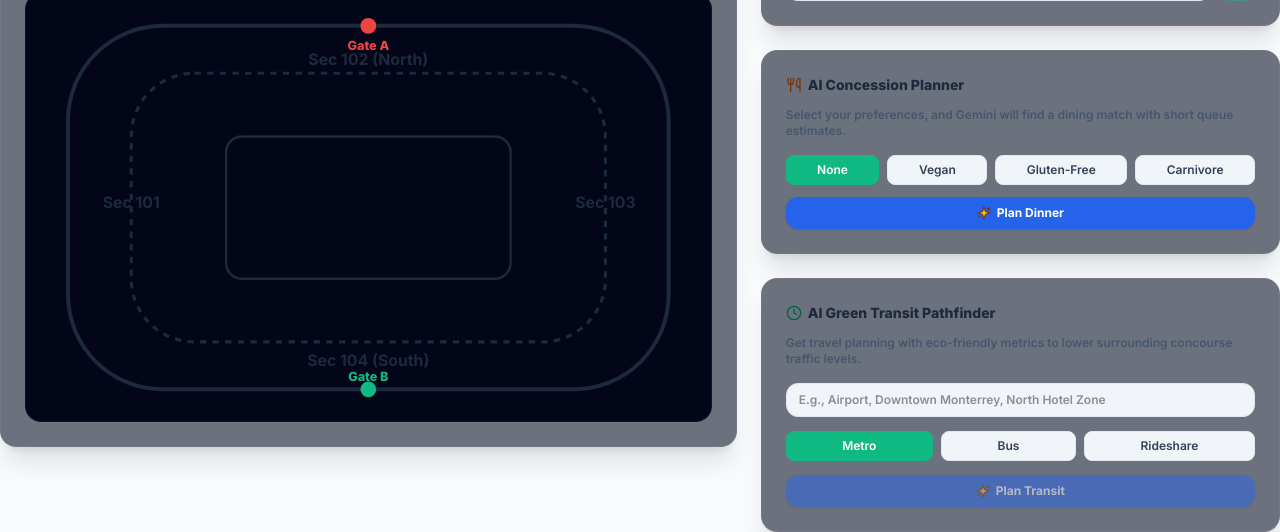
Dashboard Integration Tests › Error retry boundaries › handles transit planner error and retry
(page scrolled)
Type "Downtown" into the field named "Enter transit destination" at (1020, 400), box [786, 383, 1255, 417]
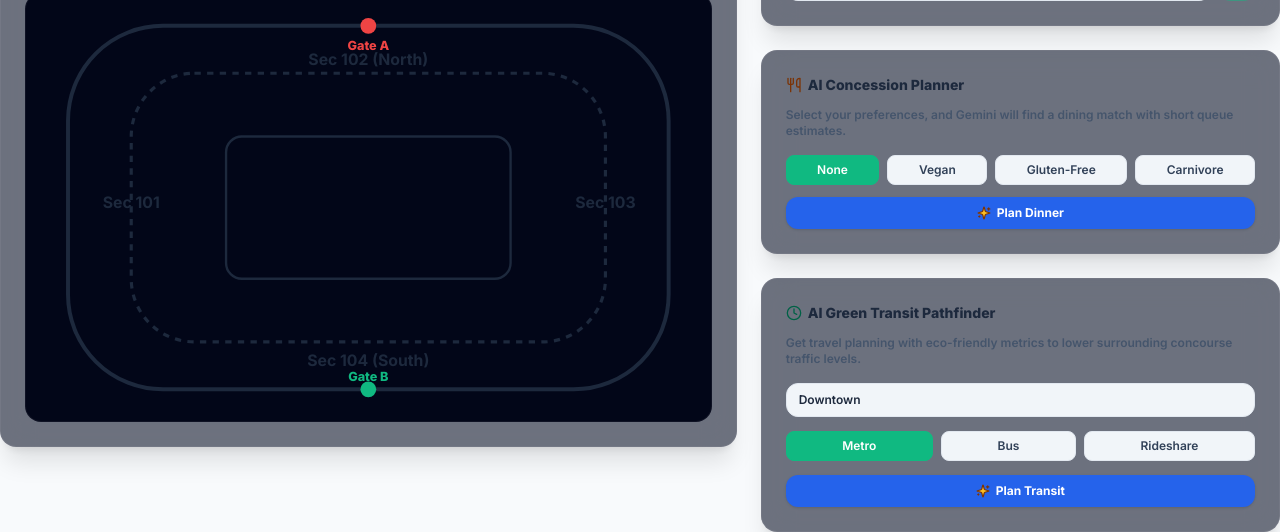
Click the button "Plan Transit" at (1020, 491), box [786, 475, 1255, 507]
(page scrolled)
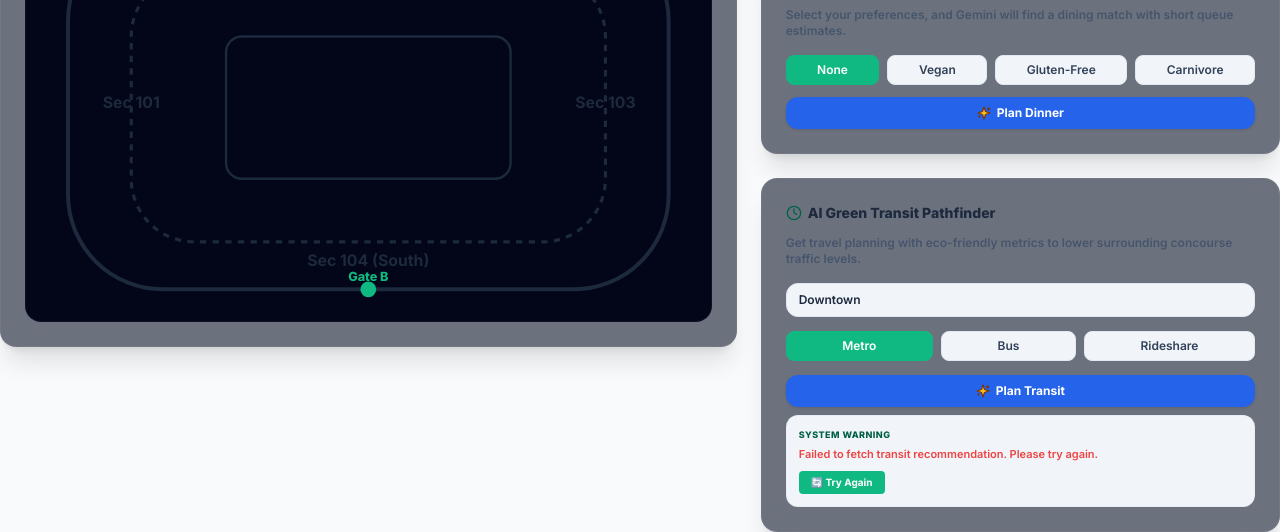
expect the text "Failed to fetch transit recommendation. Please try again." is shown: met, box [799, 446, 1098, 460]
Click the button "🔄 Try Again" at (842, 483), box [799, 471, 885, 494]
(page scrolled)
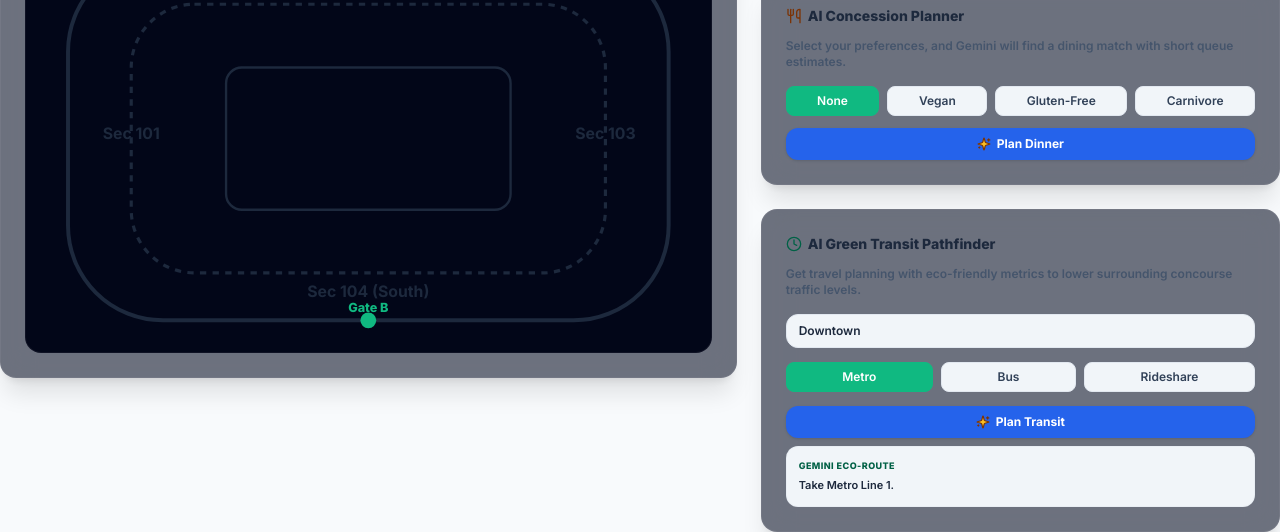
expect the text "Take Metro Line 1." is shown: met, box [799, 478, 894, 492]
